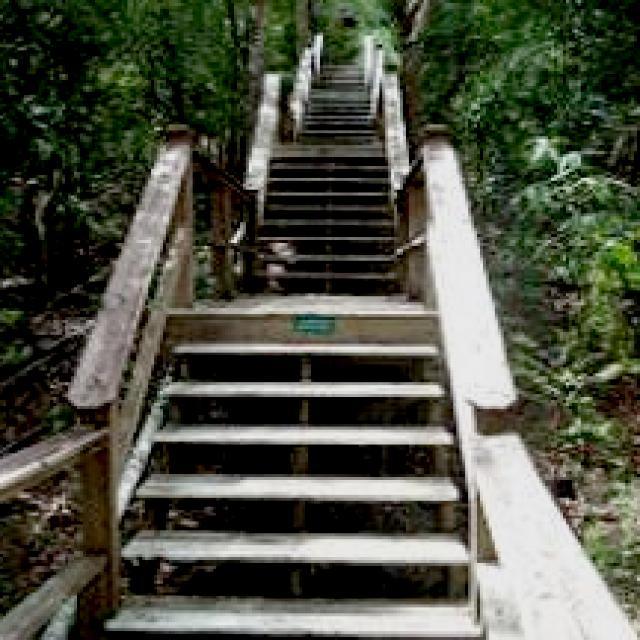upstair: (114, 324, 472, 640)
